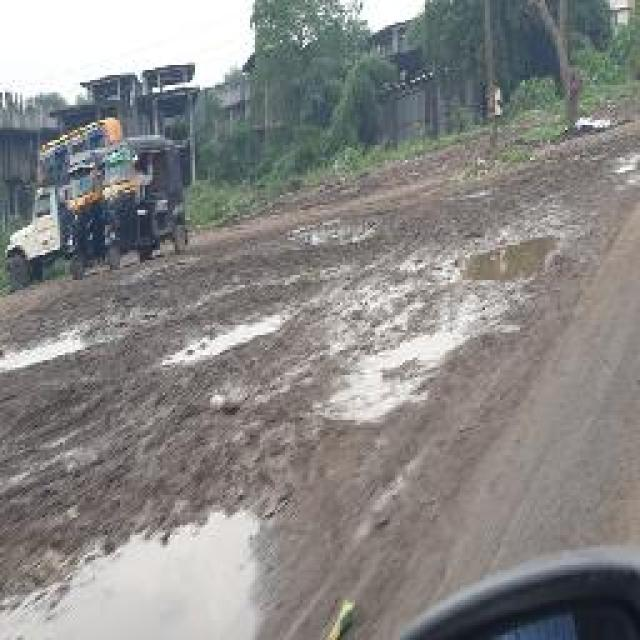stagnation: (0, 498, 261, 635), (458, 240, 565, 286)
